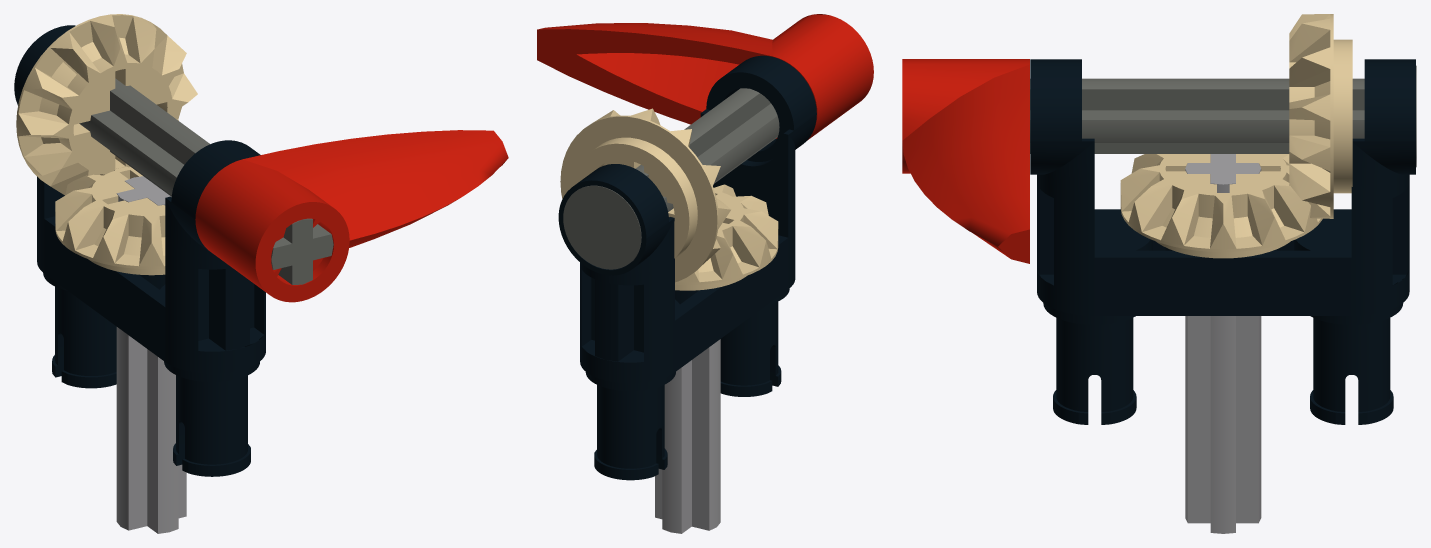
Rendered from 90_degree_3.glb.
3 views of the same model, side by side, from view 1: azimuth 30°, elevation 25°; view 2: azimuth 150°, elevation 25°; view 3: azimuth 270°, elevation 25° (orthographic). The views are drawn at different scales.
Visible parts, largest first — view 1: 48496.dat, 41669.dat, 6589.dat.001, 4519.dat, 87083.dat, 6589.dat; view 2: 48496.dat, 41669.dat, 6589.dat.001, 87083.dat, 4519.dat, 6589.dat; view 3: 48496.dat, 41669.dat, 4519.dat, 87083.dat, 6589.dat, 6589.dat.001.
Part boxes in pixels (x1=…): 48496.dat: x1=14, y1=25, x2=265, y2=476; 41669.dat: x1=195, y1=130, x2=508, y2=302; 6589.dat.001: x1=16, y1=14, x2=197, y2=195; 4519.dat: x1=116, y1=176, x2=186, y2=533; 87083.dat: x1=79, y1=78, x2=333, y2=284; 6589.dat: x1=55, y1=166, x2=165, y2=275; 48496.dat: x1=558, y1=55, x2=816, y2=480; 41669.dat: x1=537, y1=14, x2=873, y2=140; 6589.dat.001: x1=560, y1=108, x2=730, y2=282; 87083.dat: x1=563, y1=88, x2=779, y2=269; 4519.dat: x1=655, y1=339, x2=720, y2=533; 6589.dat: x1=675, y1=184, x2=778, y2=290; 48496.dat: x1=1030, y1=59, x2=1415, y2=424; 41669.dat: x1=902, y1=59, x2=1029, y2=263; 4519.dat: x1=1185, y1=154, x2=1261, y2=533; 87083.dat: x1=1030, y1=65, x2=1416, y2=167; 6589.dat: x1=1120, y1=154, x2=1322, y2=258; 6589.dat.001: x1=1289, y1=14, x2=1352, y2=218.
Bounding box in the file's own units: 0.6373 × 0.8461 × 0.798.
